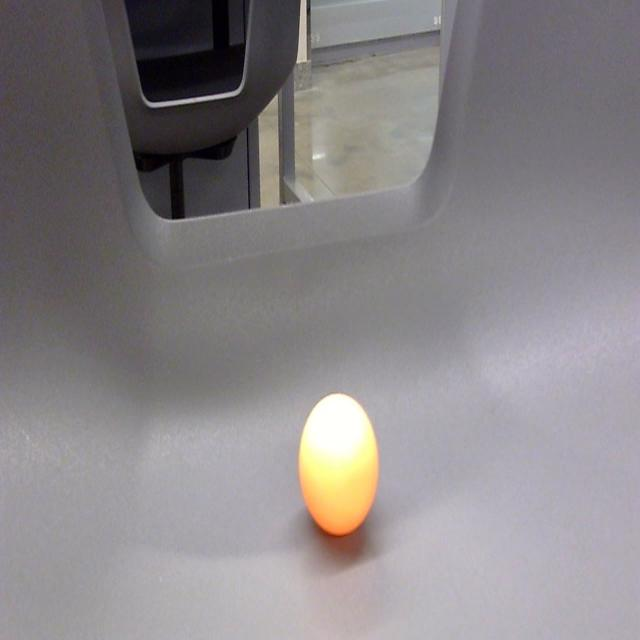ball: (295, 391, 383, 544)
